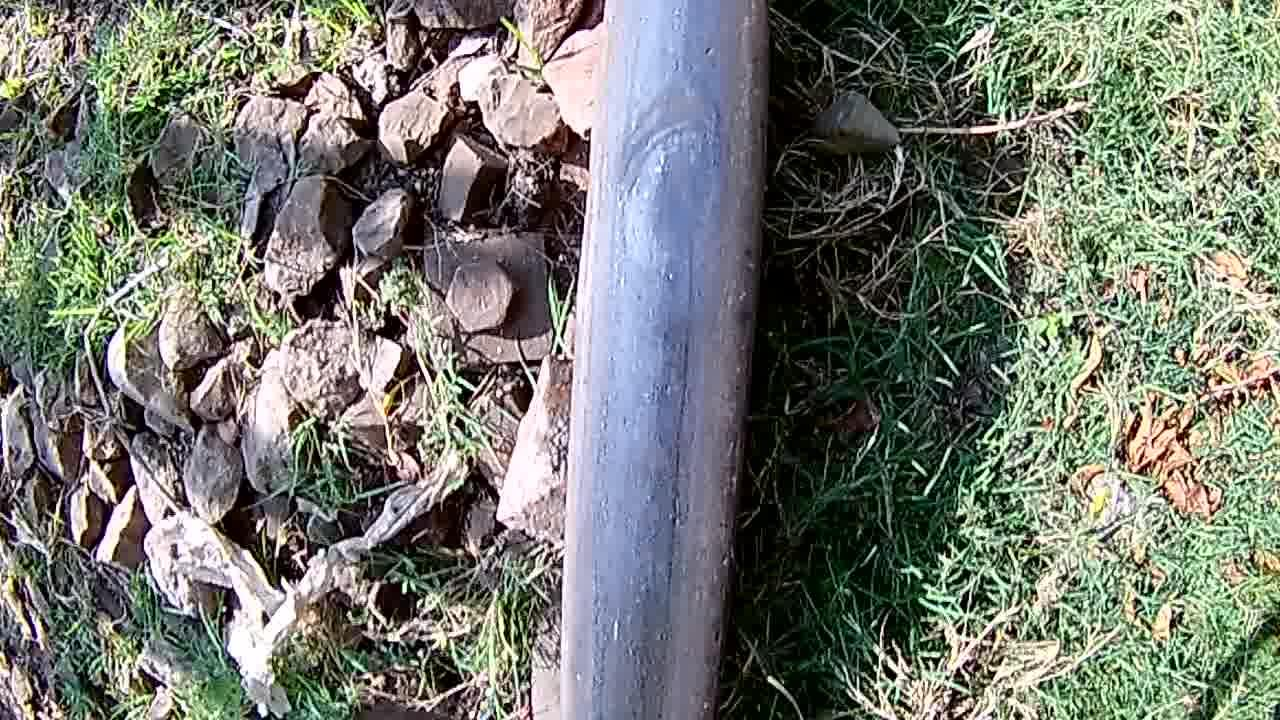bolt_missing: (584, 13, 758, 720)
